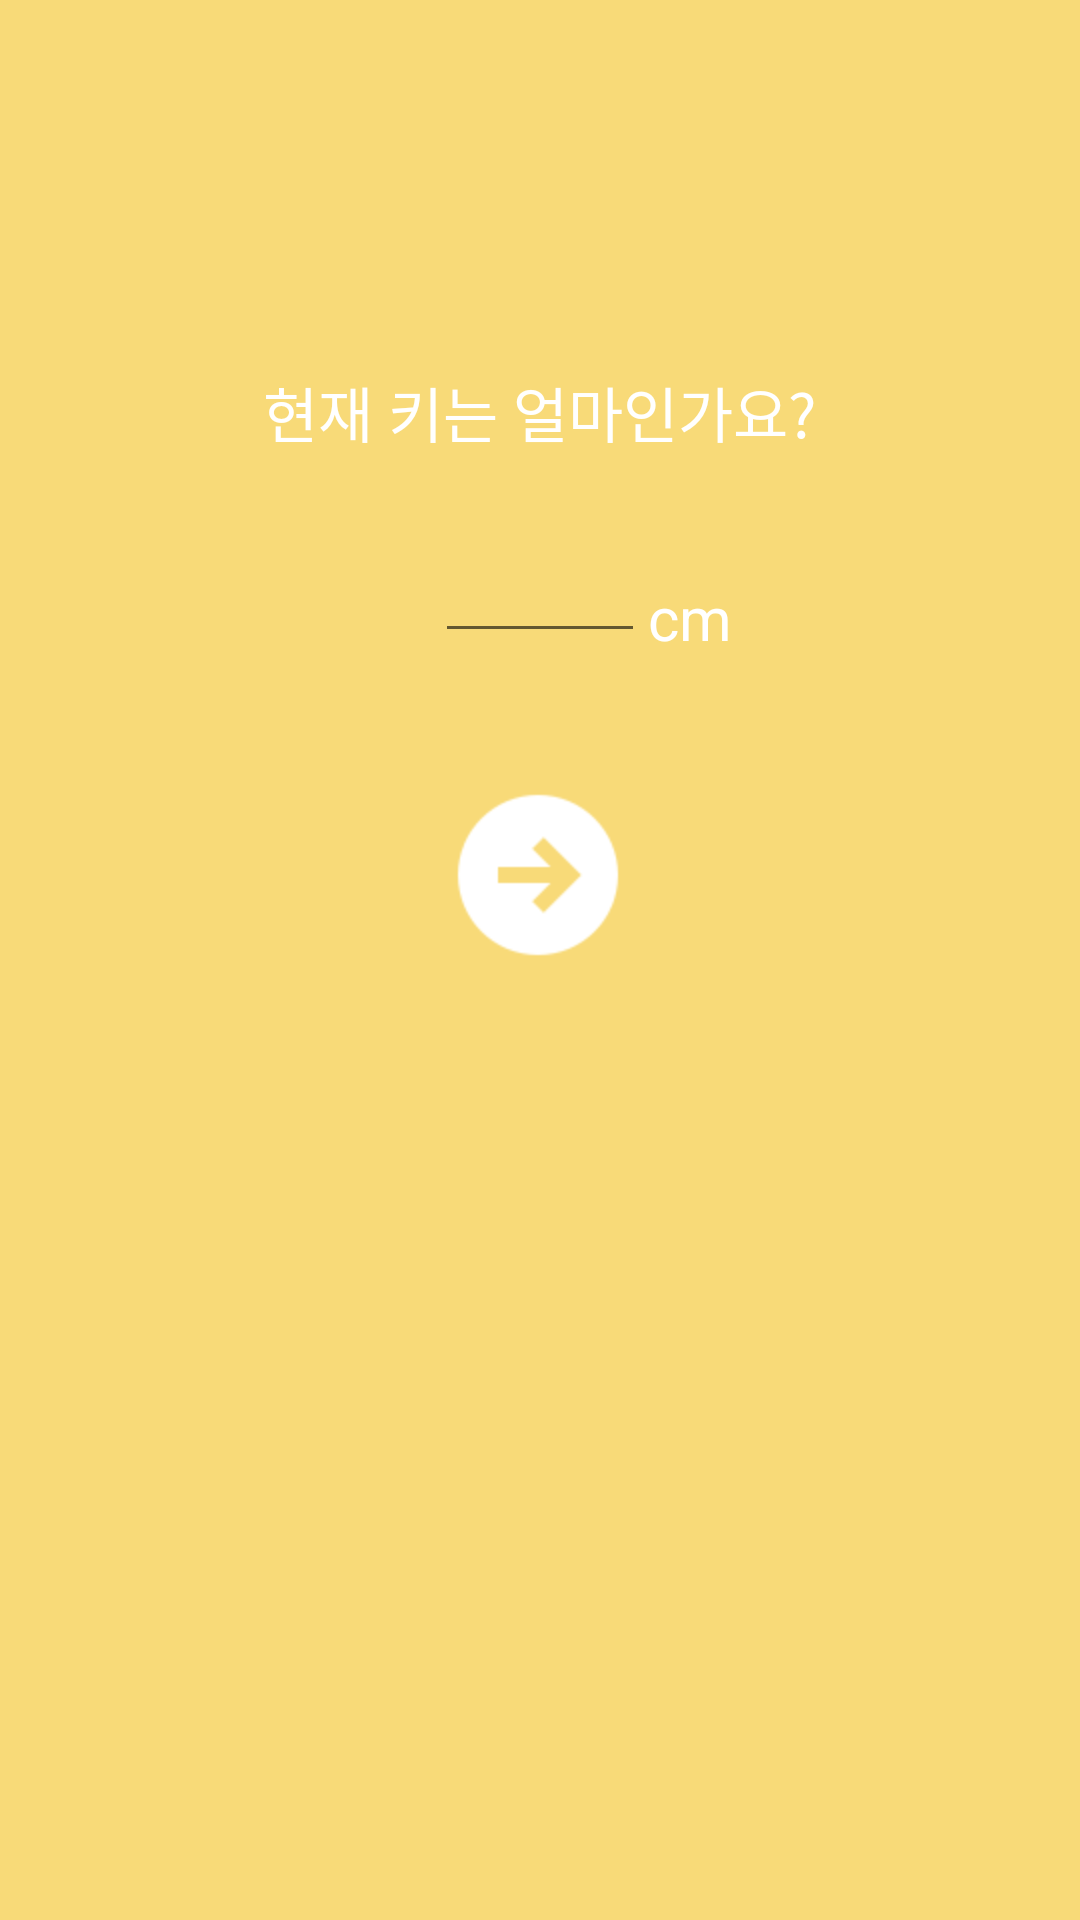

Named icons in this screenshot (1080px×1920px) and their bounding boxes, rect(x1, y1, x2, y2):
arrow: rect(457, 794, 619, 956)
